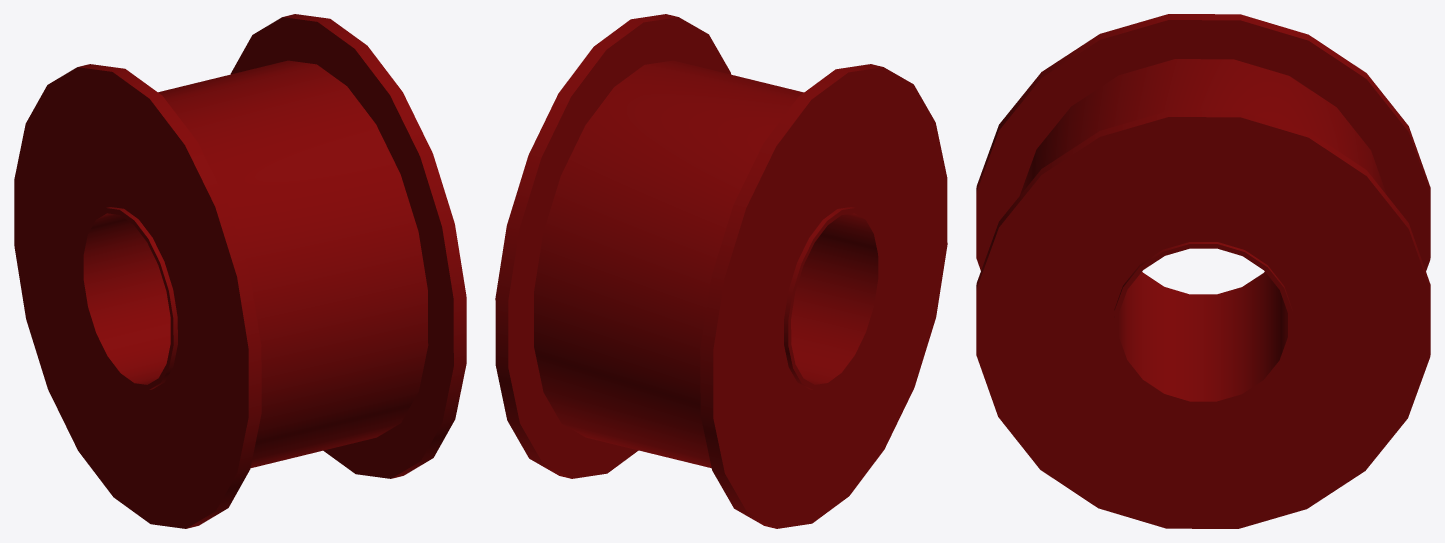
The model's file is plaster.obj.
The picture shows the model from 3 angles, left to right: view 1: azimuth 30°, elevation 25°; view 2: azimuth 150°, elevation 25°; view 3: azimuth 270°, elevation 25°; orthographic projection. The views are drawn at different scales.
Parts seen in each view (by area): view 1: pPipe1; view 2: pPipe1; view 3: pPipe1.
Boxes of the visible parts, x1,y1,x2,y2 form: pPipe1: (14, 14, 466, 528); pPipe1: (495, 14, 947, 528); pPipe1: (976, 14, 1430, 528).
Size of the model in its own units: 4.02 by 7.22 by 7.22.
